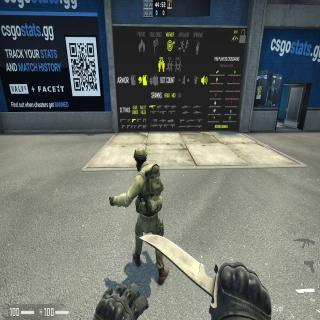CT-Body: (135, 146, 159, 261)
CT-Head: (134, 146, 147, 172)
